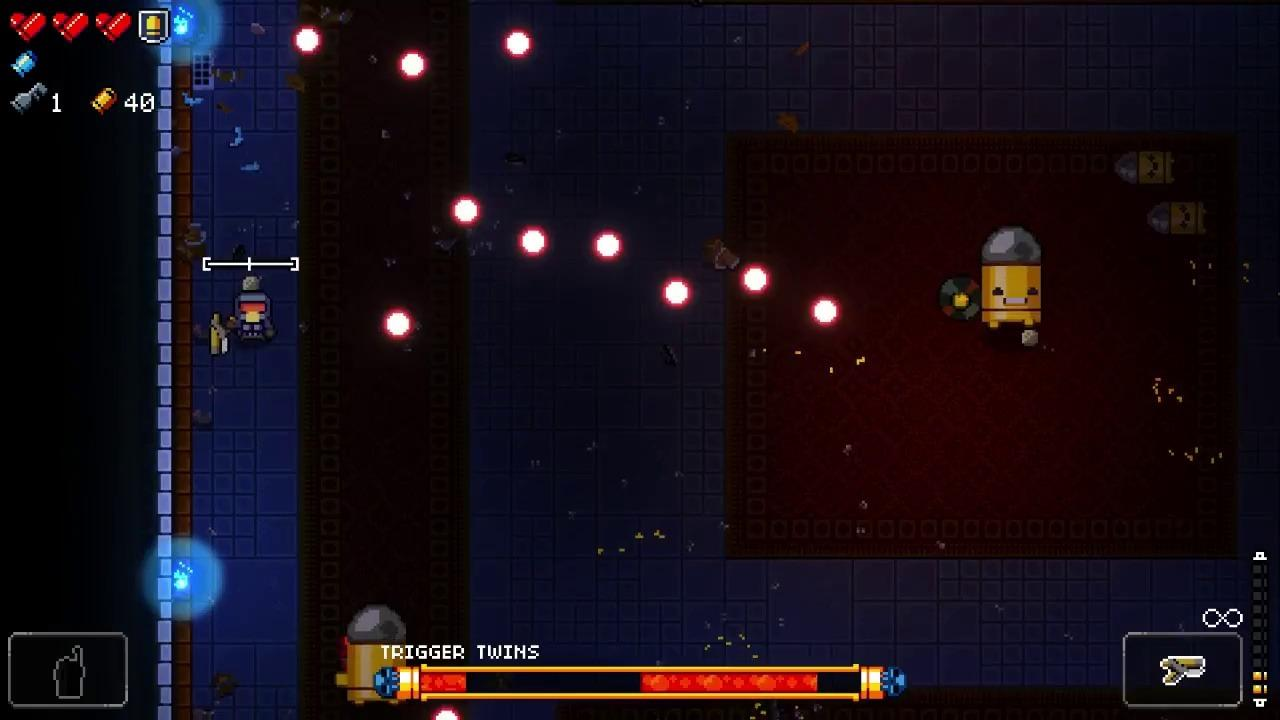boss_shades: (346, 602, 406, 705)
boss_smiley: (983, 226, 1042, 328)
bullet: (589, 230, 623, 263), (290, 23, 323, 57), (808, 296, 841, 329), (398, 49, 428, 84), (451, 195, 483, 227), (660, 278, 692, 310), (739, 264, 772, 295), (382, 309, 412, 340), (519, 227, 550, 257), (503, 30, 534, 60), (433, 704, 461, 720)
dead_bullet_kin: (1111, 150, 1175, 186), (1146, 203, 1208, 235)
player: (235, 293, 274, 344)
